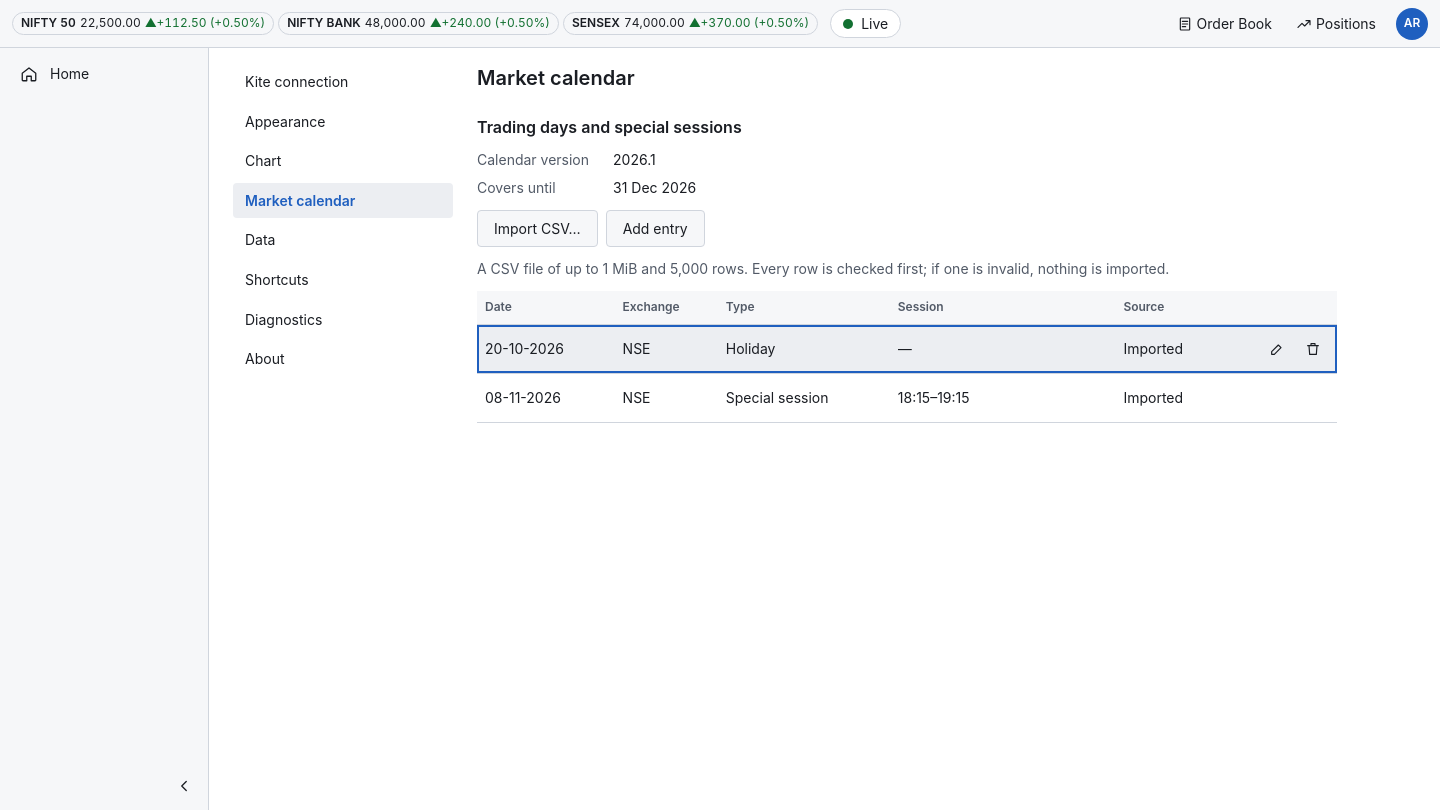
FR-DATA-001 Settings → Market calendar › removes an entry from the keyboard via the row actions
Type keys "{Shift>}{F10}{/Shift}"
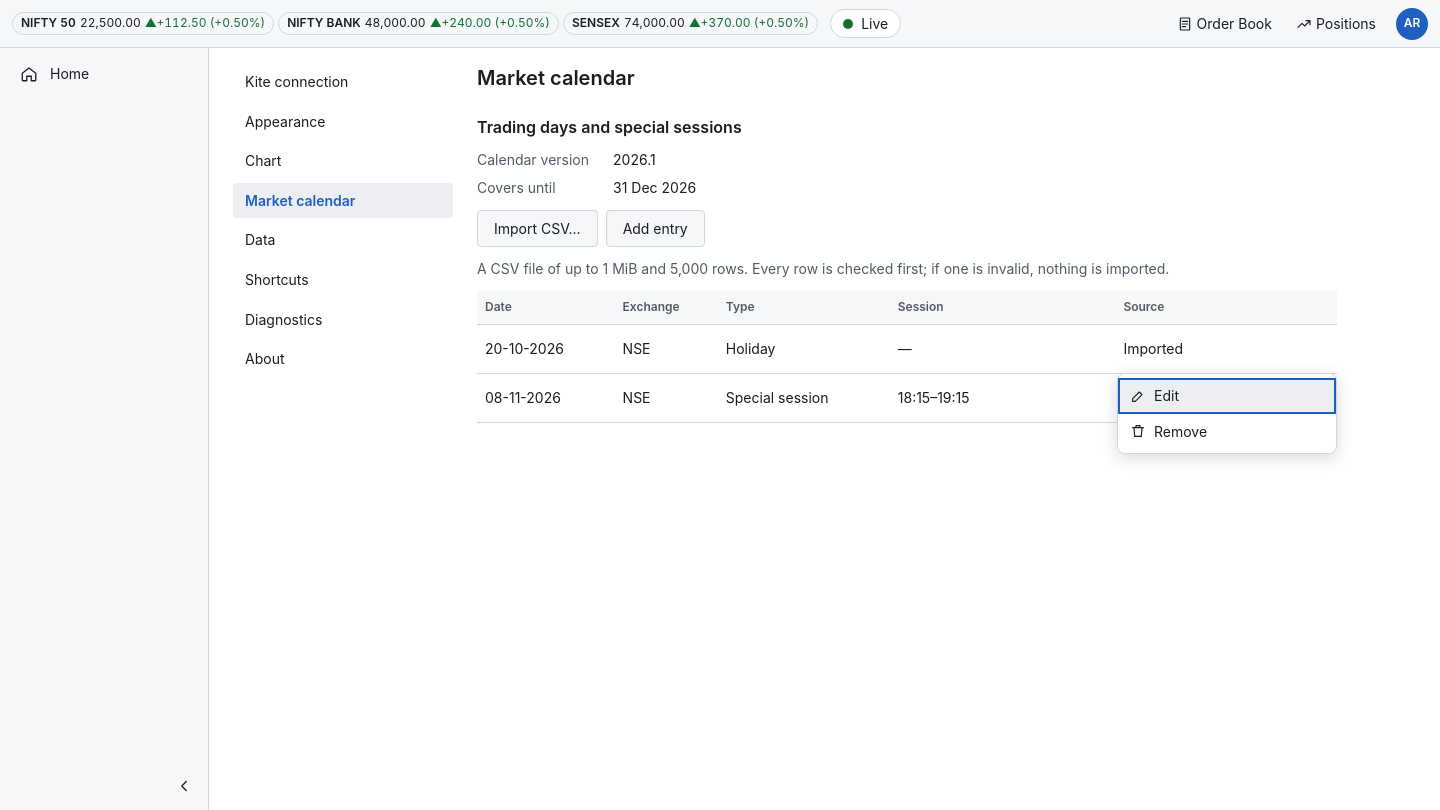
Click the menu item "Remove": [1227, 432] box [1118,414,1336,449]
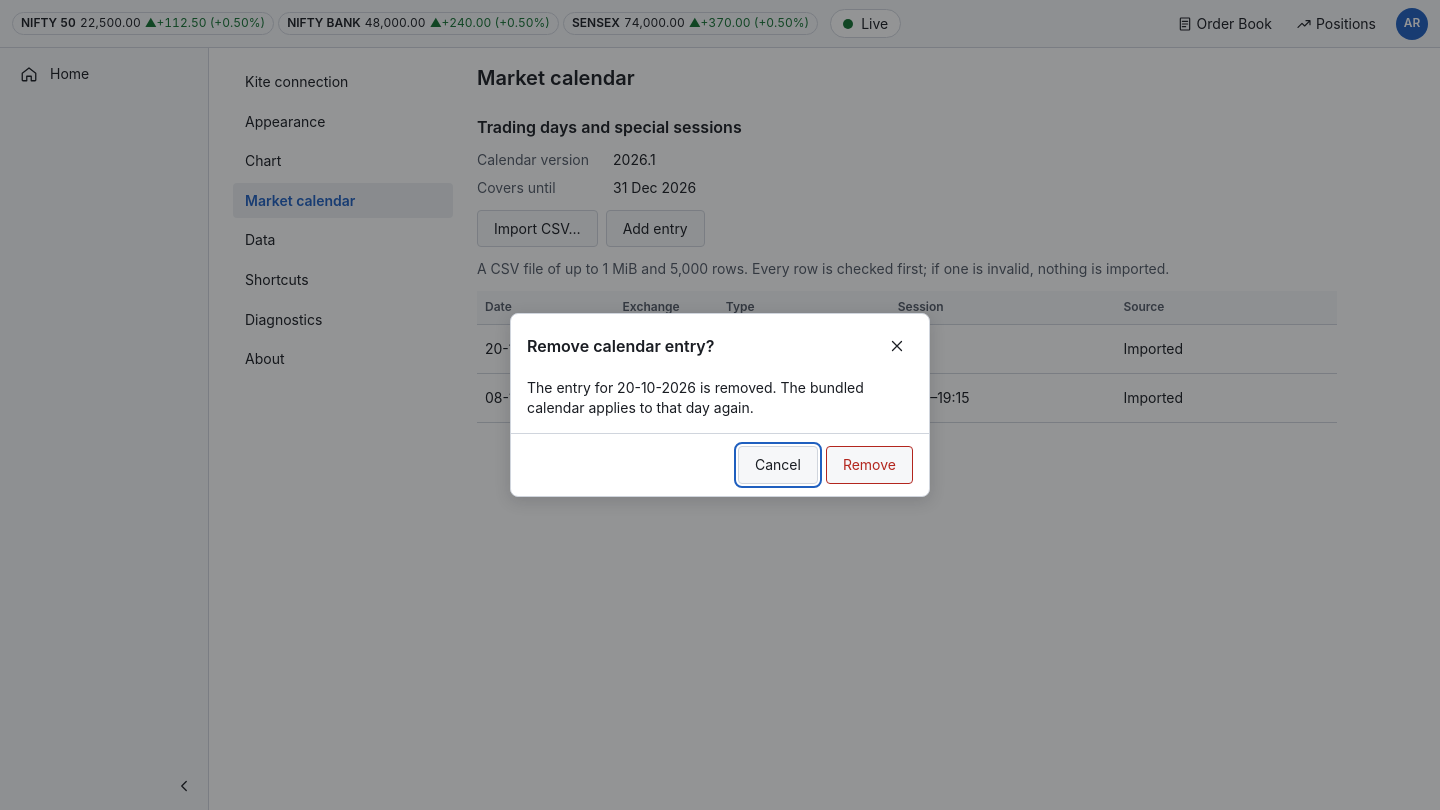
Click the button "Remove": [869, 465] box [826,446,913,484]
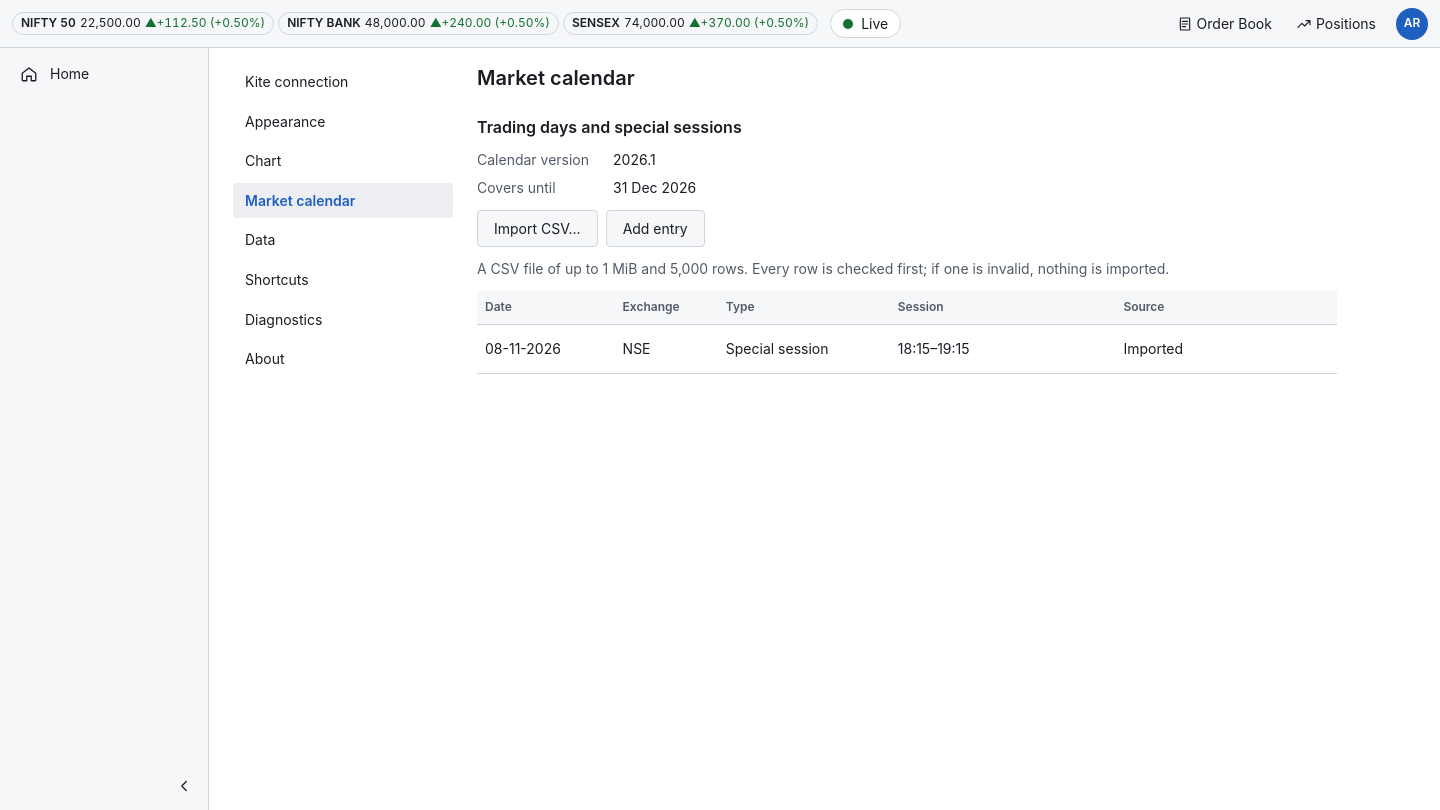
Expected: the cell "20-10-2026" is gone
